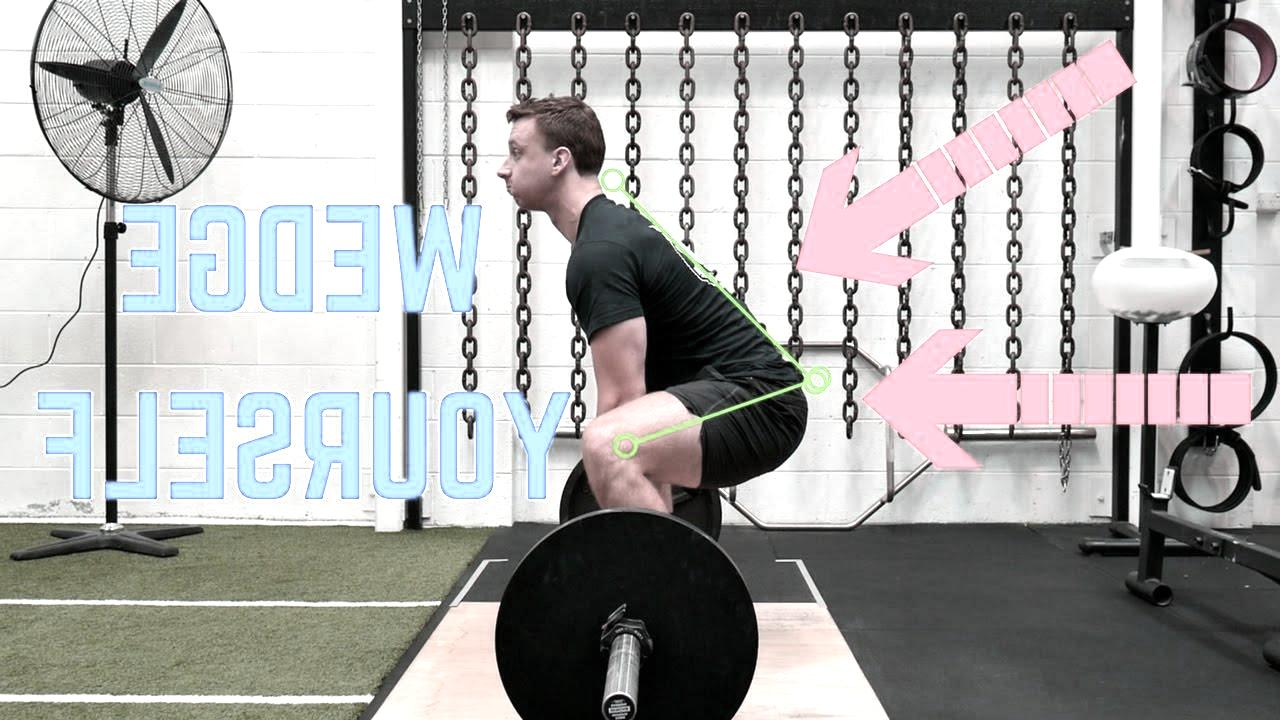Barbell: (598, 689, 640, 720)
